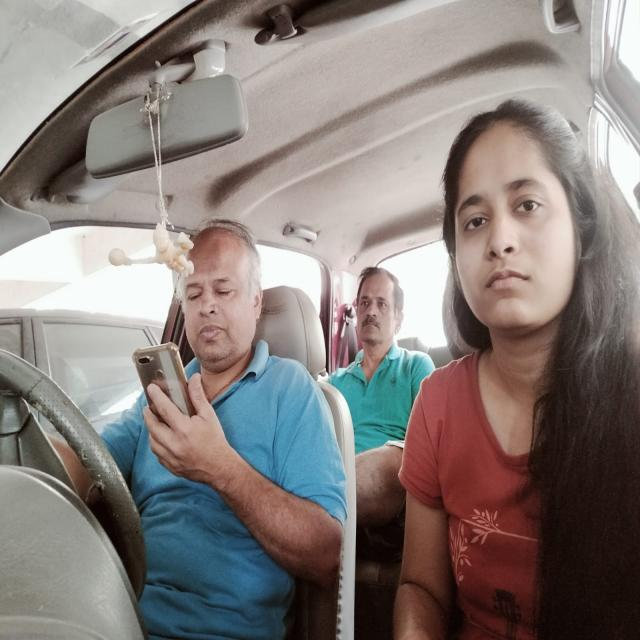mobile: (129, 340, 200, 423)
person: (441, 104, 585, 330), (175, 230, 267, 360), (347, 266, 409, 360)
